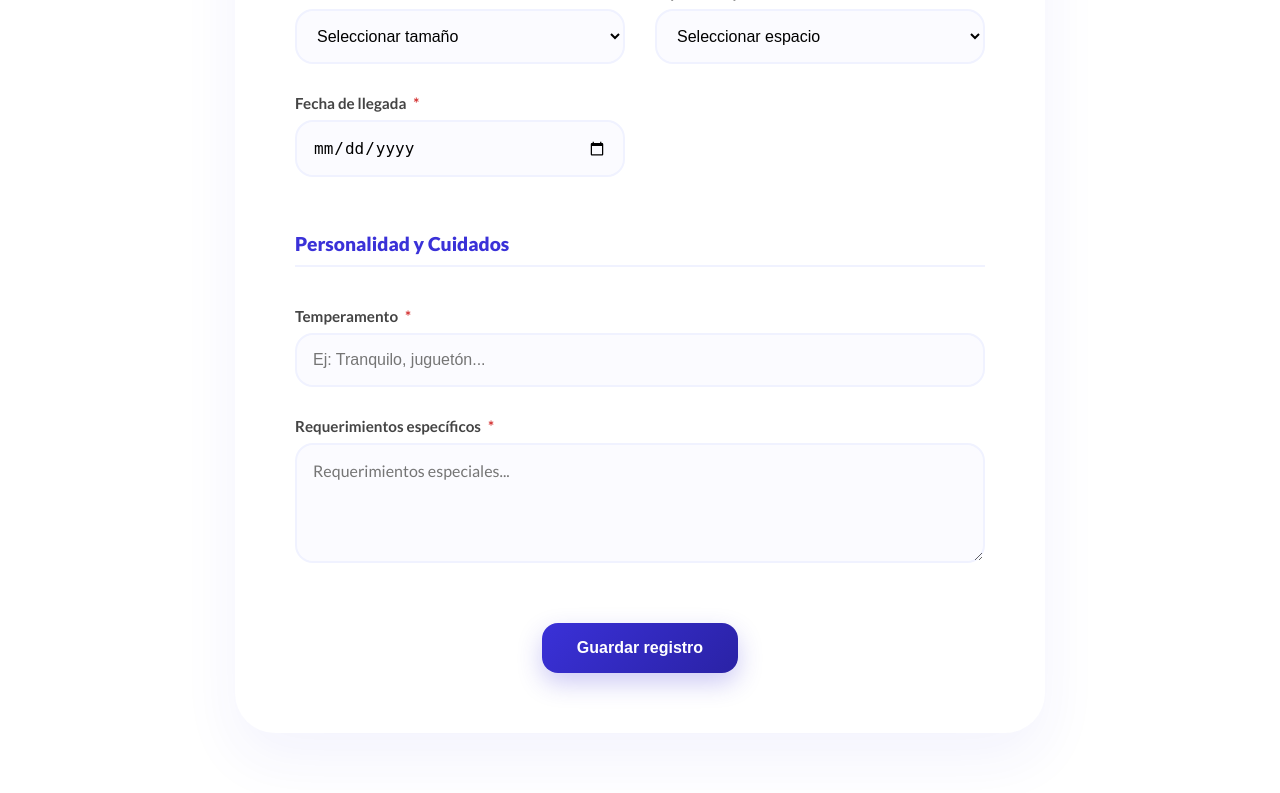
Test case: AddPet Page › muestra errores si se envía el formulario vacío
(page scrolled)
What coordinates should you click on to do the following:
click the button "Guardar registro"
I would click on:
 (640, 648)
Its box is [542,623,738,673].
(page scrolled)
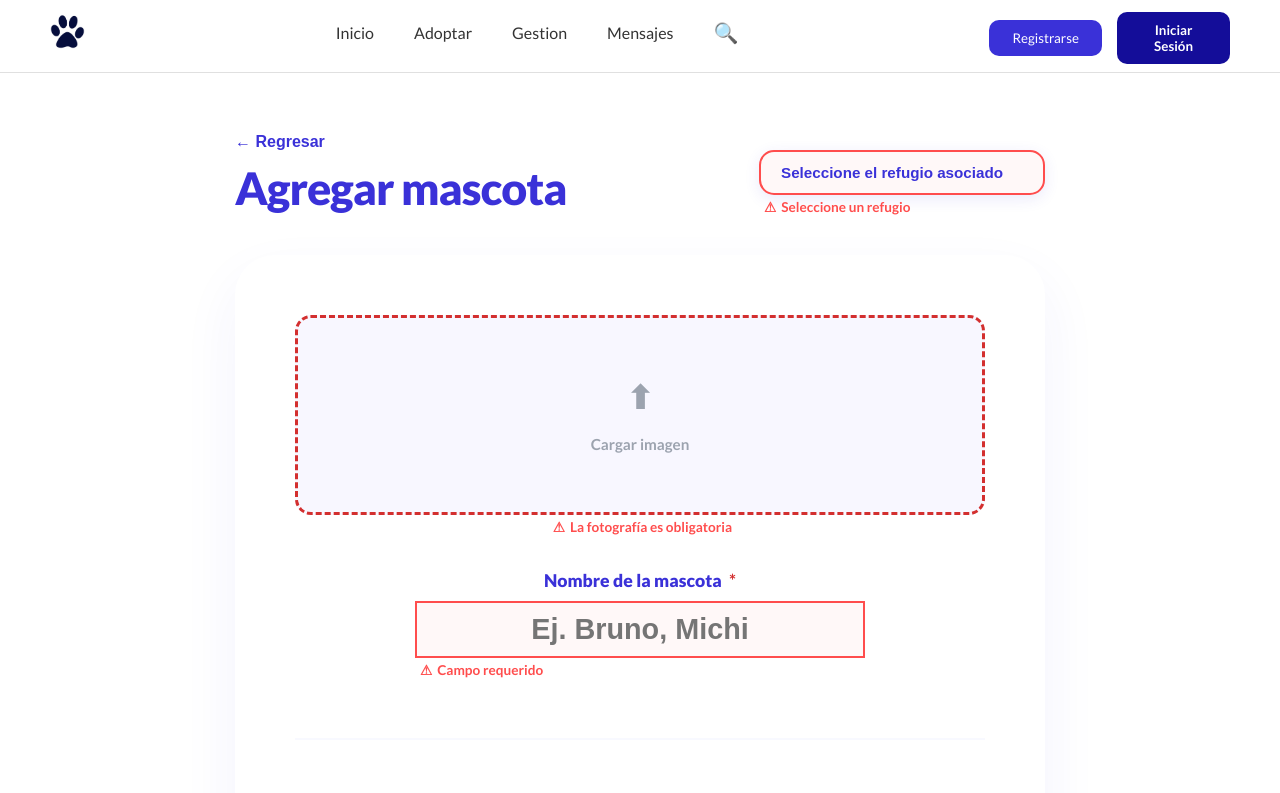
expect the text "Seleccione un refugio" is shown: met, box [781,199,911,215]
expect the text "La fotografía es obligatoria" is shown: met, box [553,519,732,535]
expect the text "Campo requerido" is shown: met, box [437,662,543,678]
